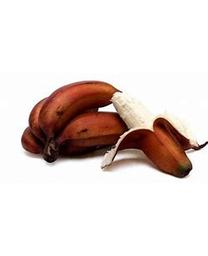banana: (20, 78, 206, 181)
